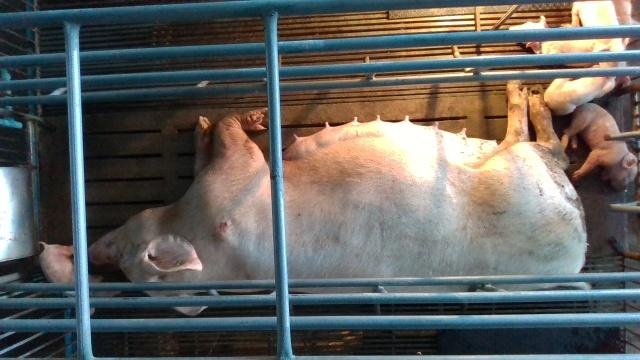piglet: (561, 102, 640, 195), (35, 240, 122, 318), (508, 12, 611, 66), (542, 59, 632, 115), (572, 2, 626, 54)
sow-sleep-lactate: (90, 79, 596, 317)
